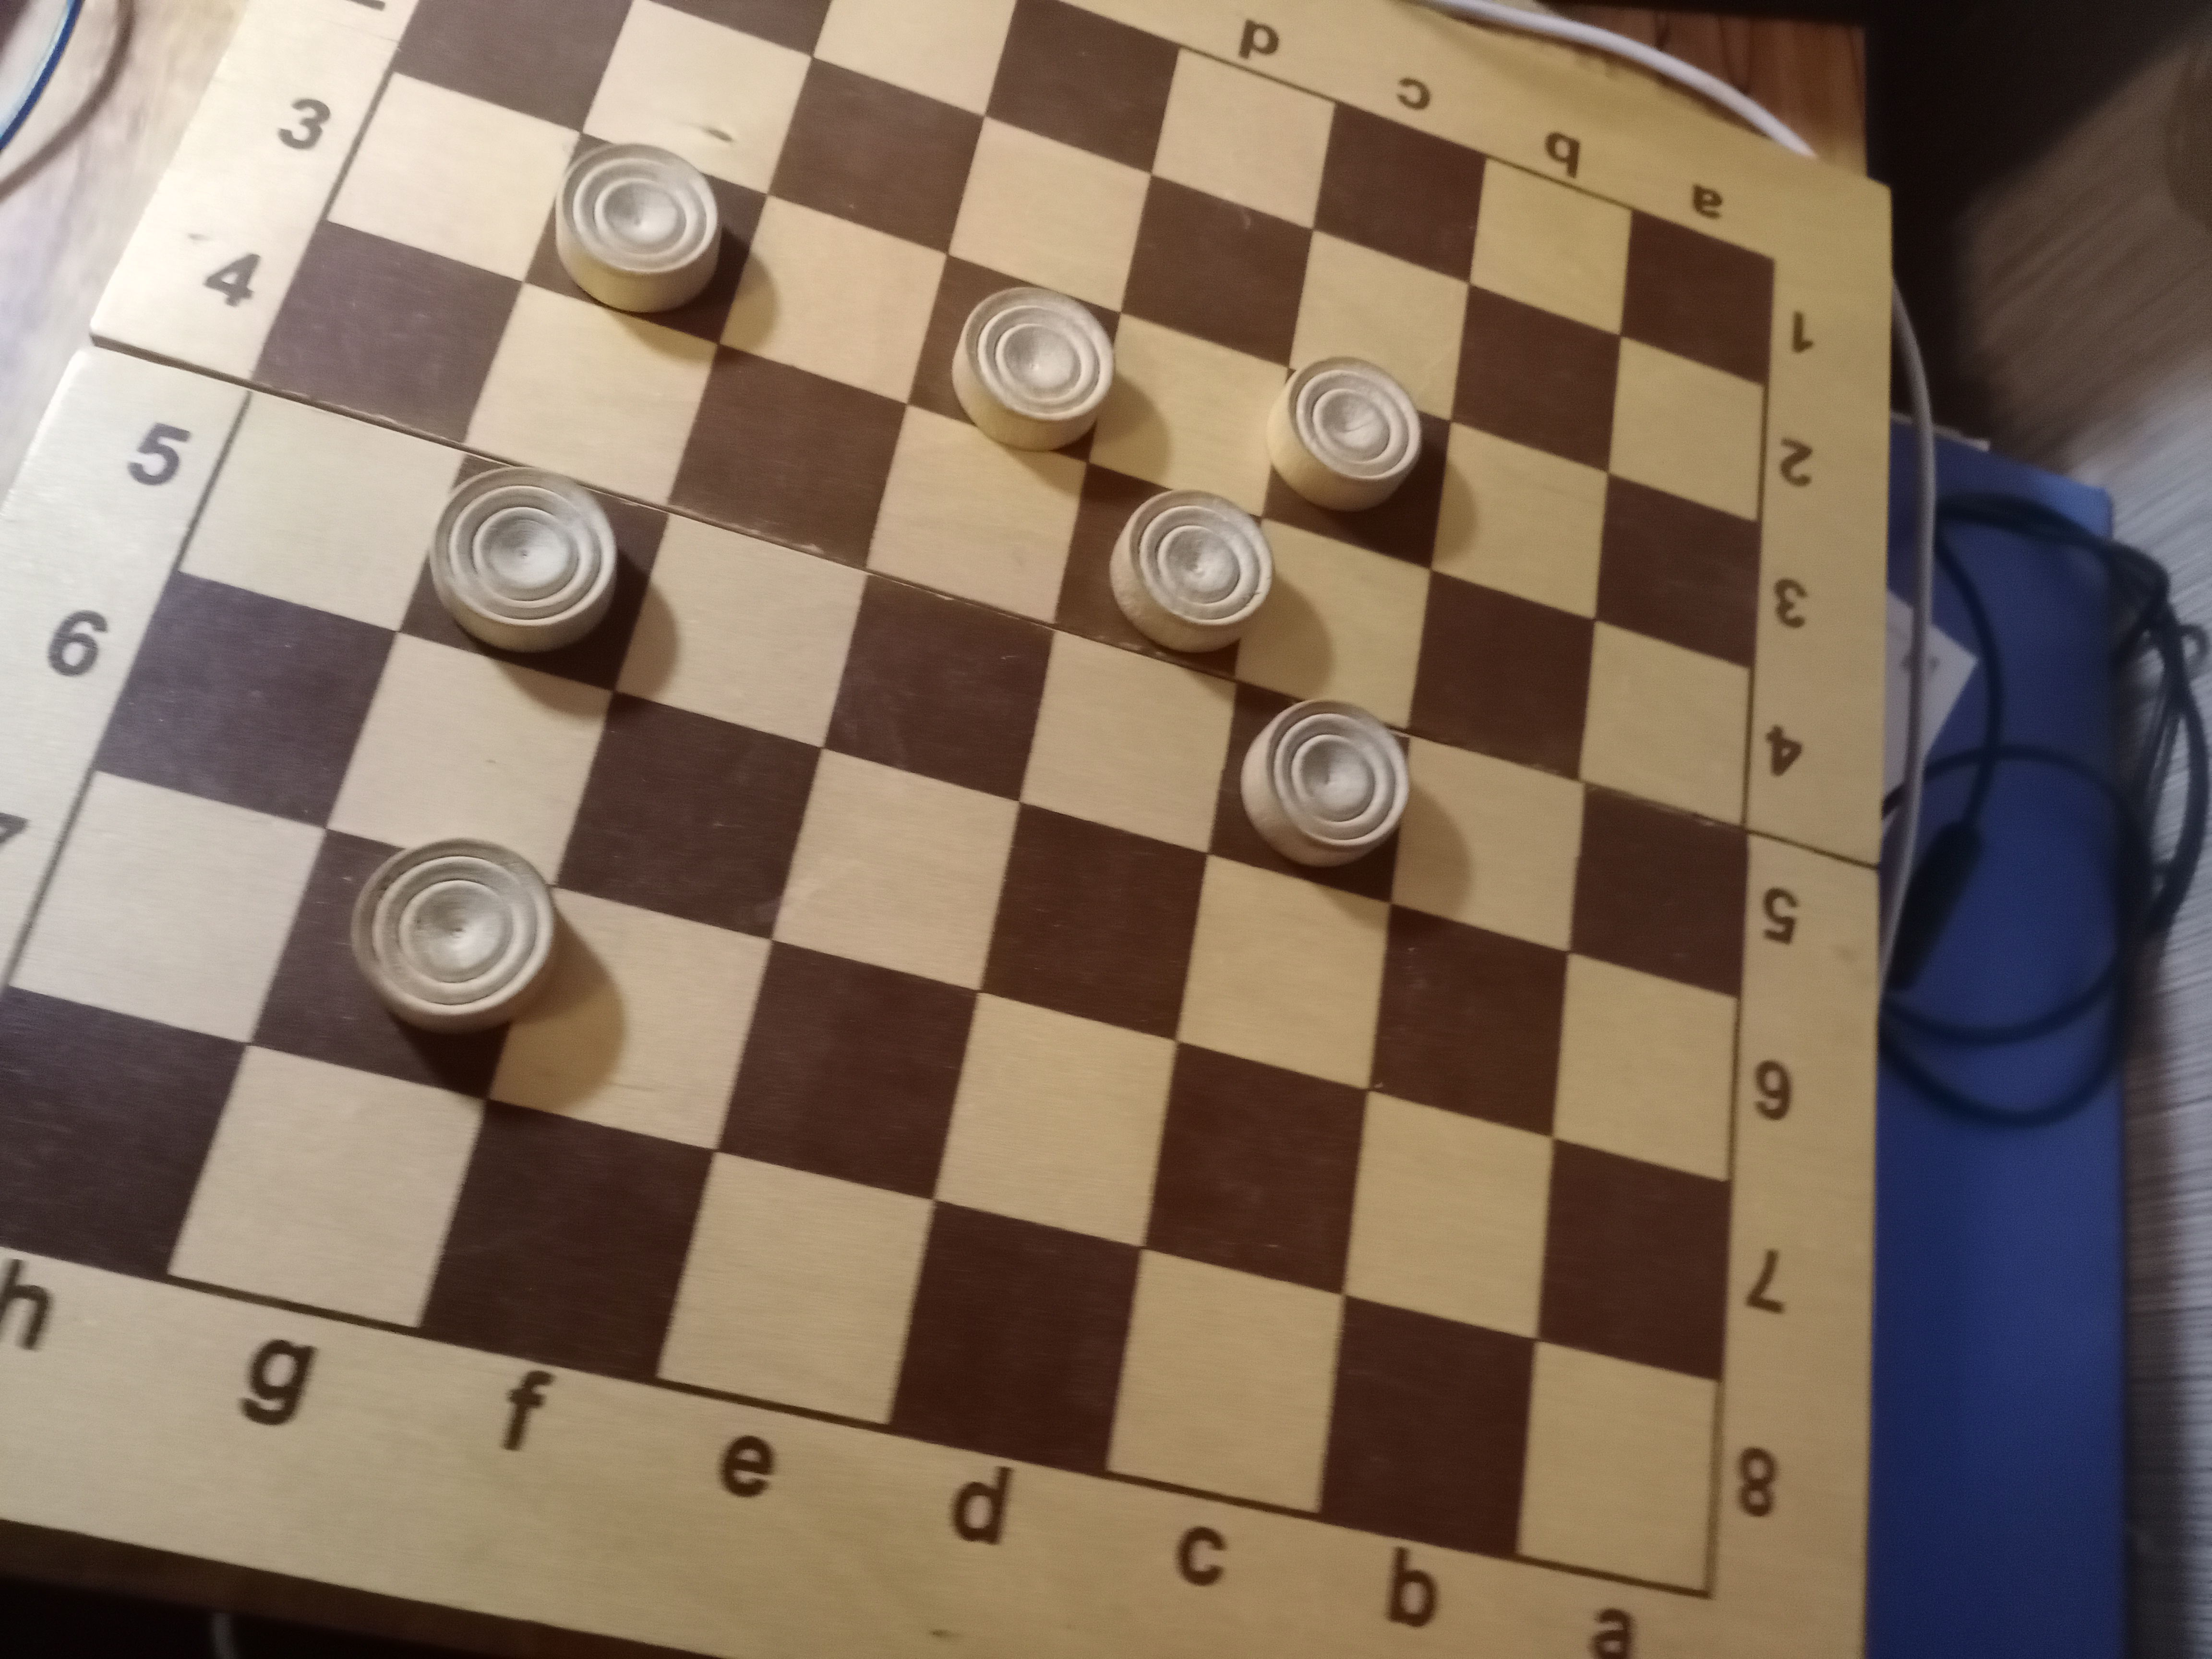White_Draught: (246, 828, 559, 1100), (399, 453, 671, 692), (524, 132, 768, 345), (1054, 464, 1273, 680), (1207, 681, 1411, 903), (907, 254, 1122, 464), (1261, 355, 1453, 570)
